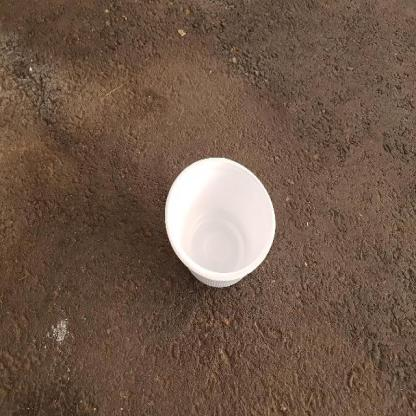Glass Cup: (164, 157, 275, 288), (165, 157, 276, 287)
